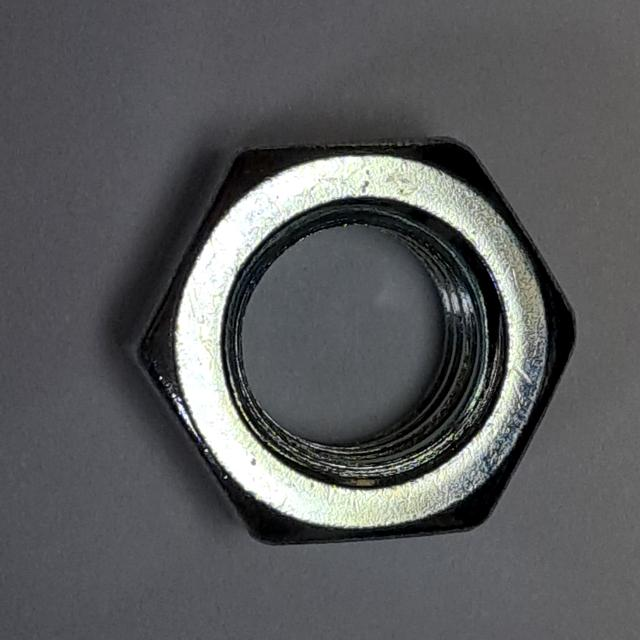Excellent: (100, 122, 594, 563)
